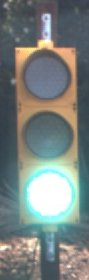Green: (14, 36, 84, 242)
